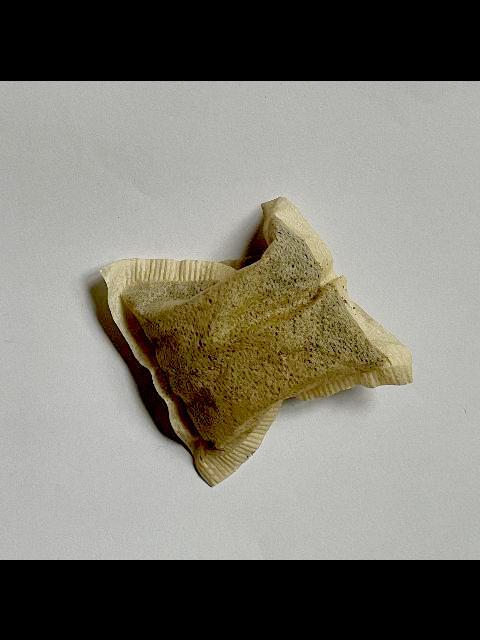teabag: (96, 194, 416, 488)
